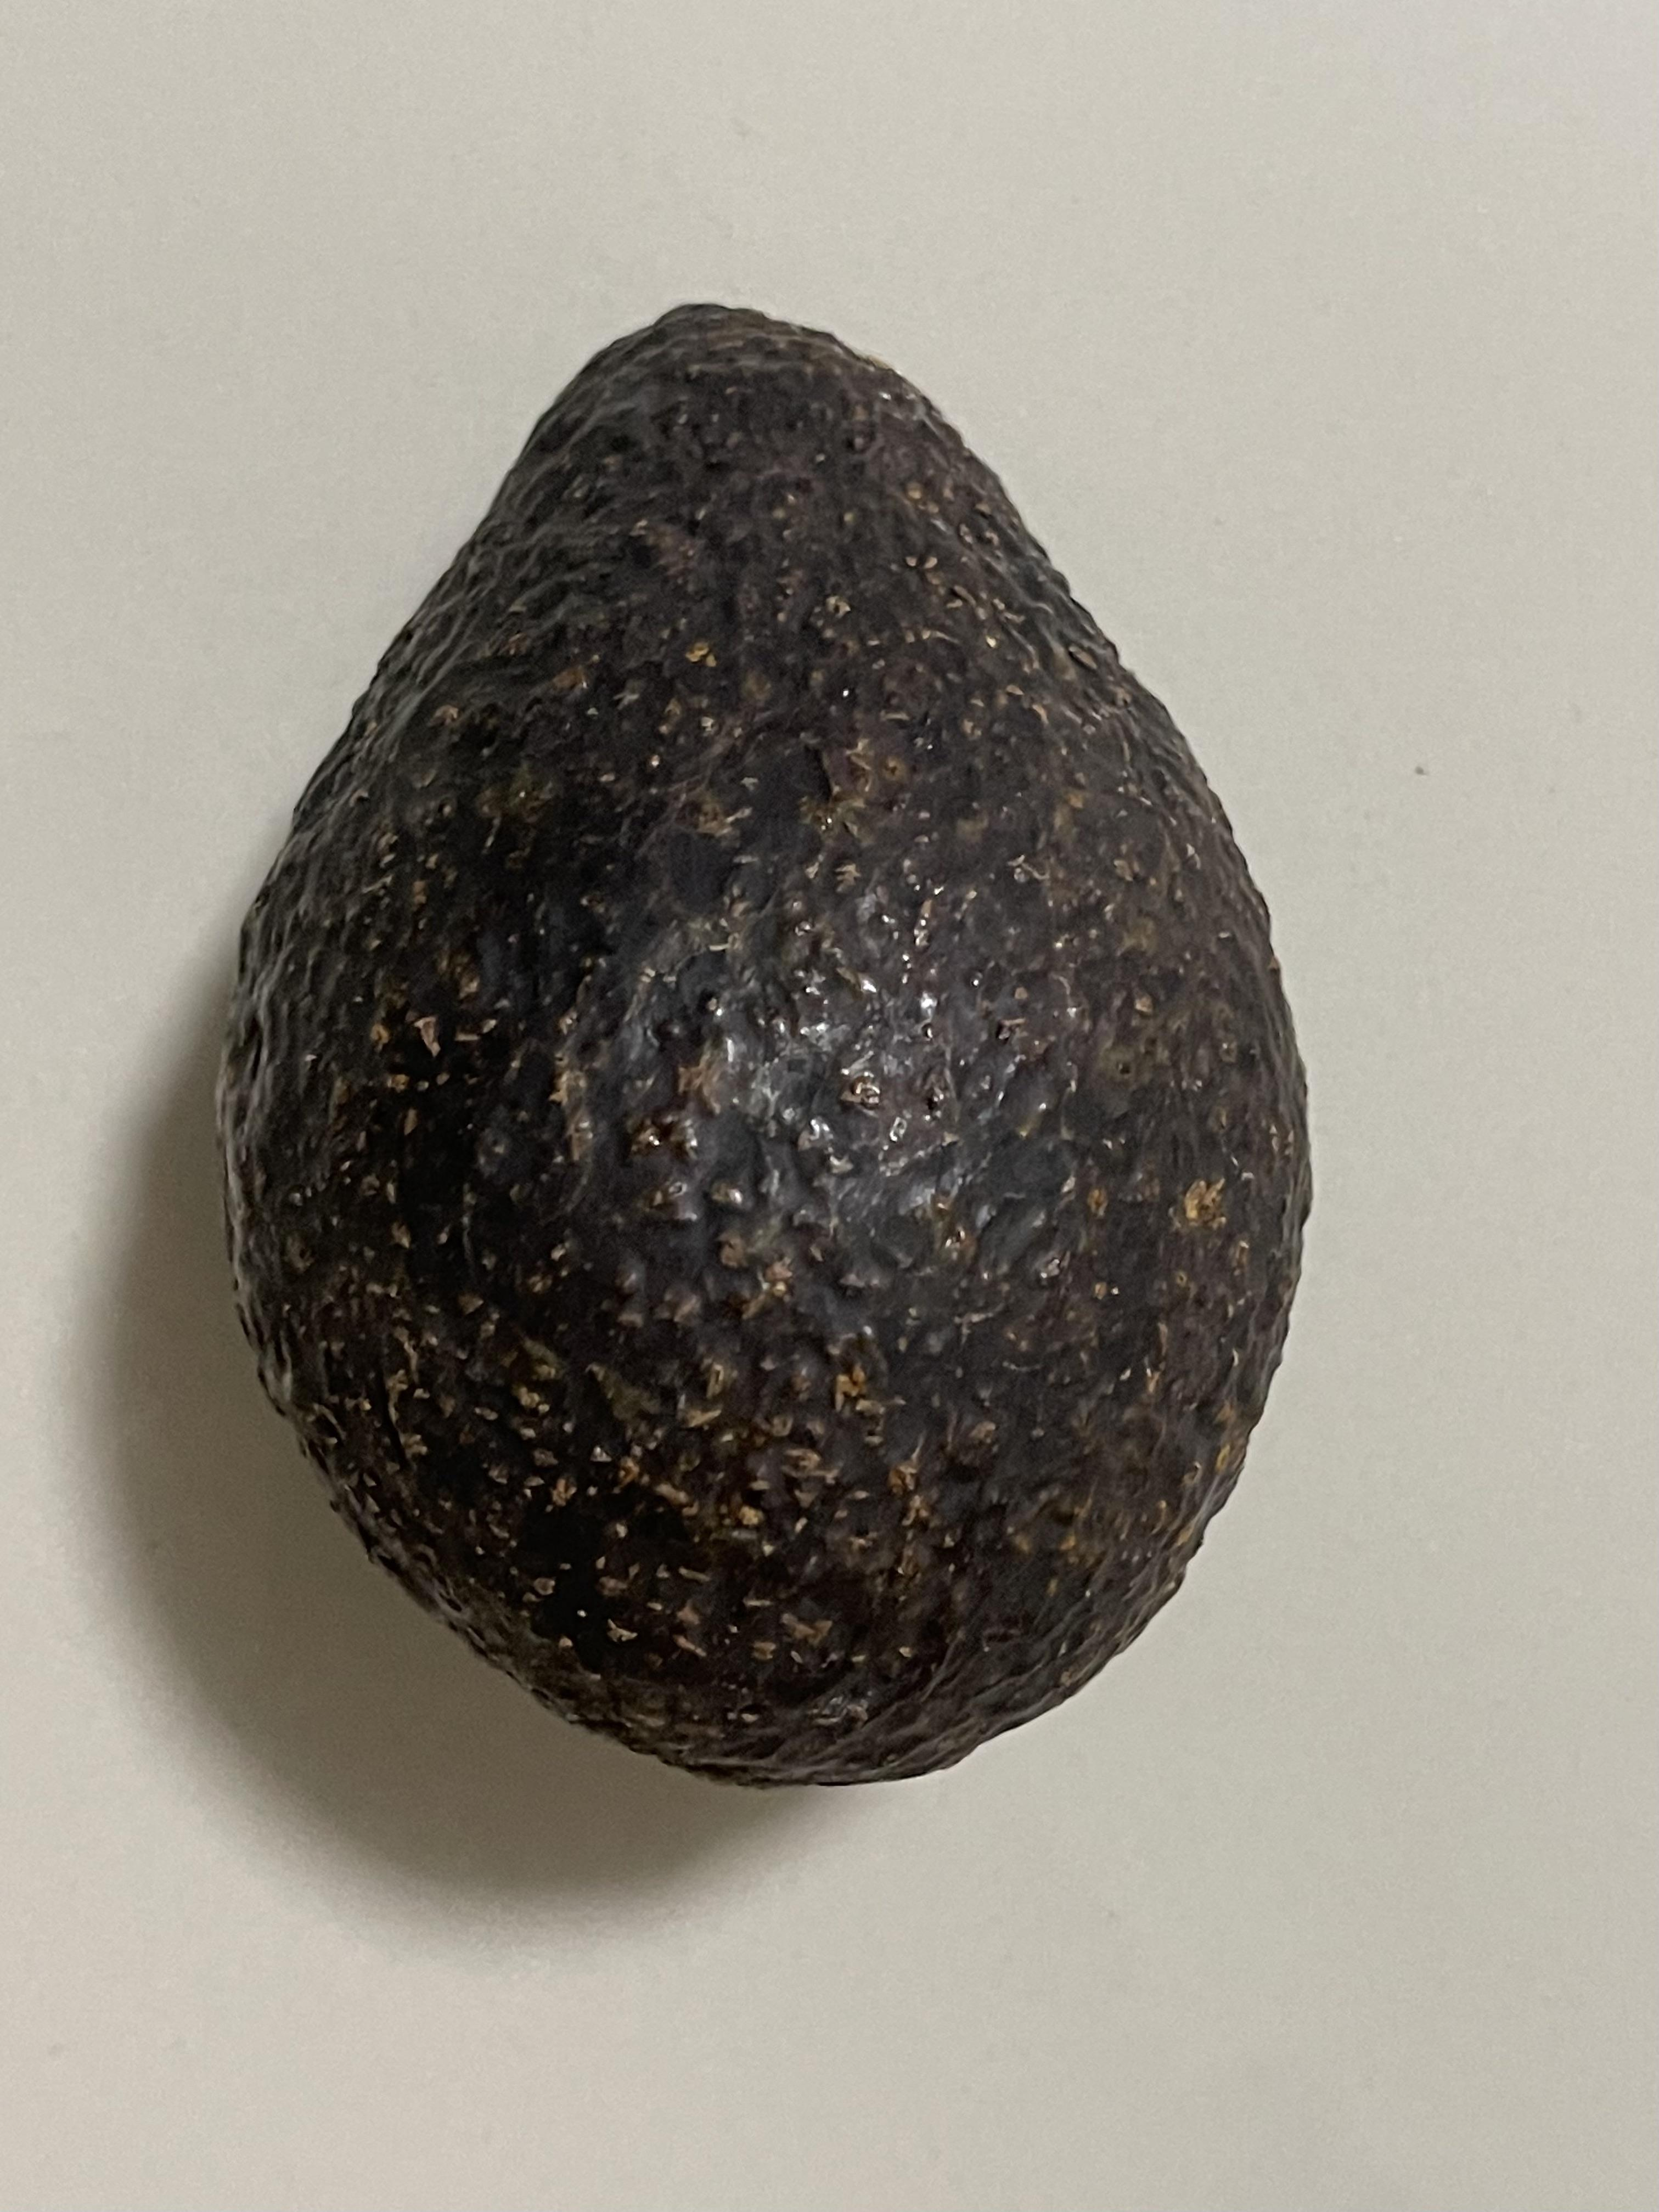Level3: (192, 268, 1333, 1811)
